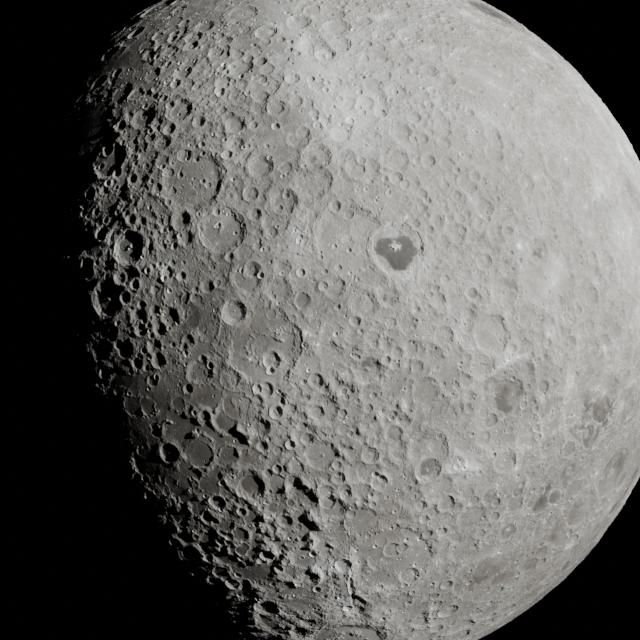crater: (91, 136, 130, 179), (111, 229, 147, 268), (92, 282, 124, 320), (153, 438, 182, 470), (111, 77, 137, 111), (230, 524, 257, 548), (254, 598, 283, 619), (222, 301, 246, 326), (170, 211, 198, 230), (118, 286, 141, 303), (124, 25, 148, 41), (206, 494, 225, 514), (109, 269, 132, 285), (196, 277, 216, 295), (151, 135, 175, 150), (334, 558, 354, 574), (176, 230, 195, 246), (235, 504, 247, 523), (129, 279, 144, 292), (169, 78, 182, 89), (312, 586, 324, 597), (185, 64, 195, 77)
rock: (123, 240, 137, 254)
